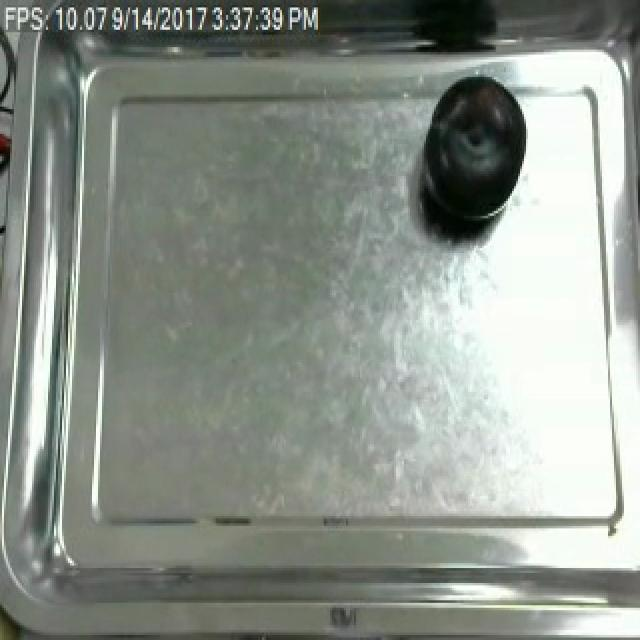Fruit: (414, 70, 534, 236)
